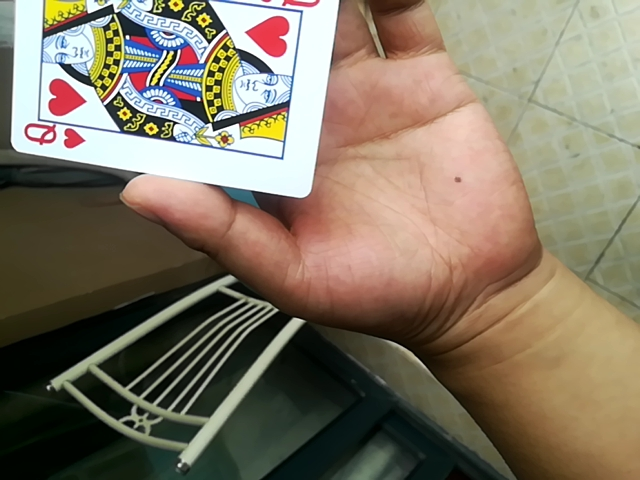hx q: (7, 0, 343, 204)
